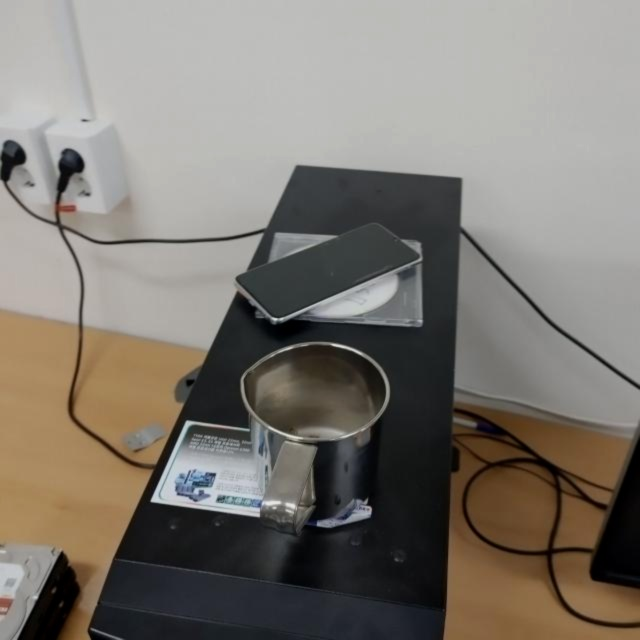cup: (241, 340, 392, 536)
phone: (229, 221, 426, 327)
